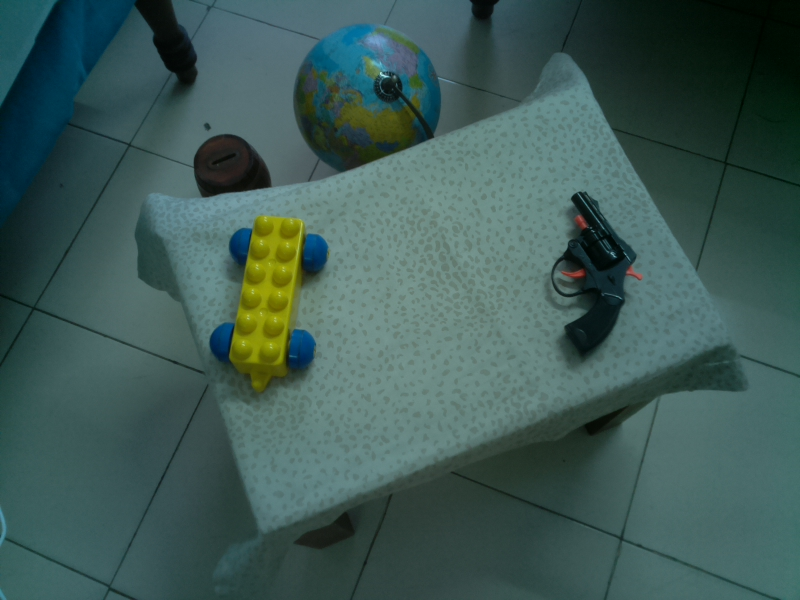Gun: (549, 190, 646, 364)
toy_Car: (207, 214, 333, 394)
